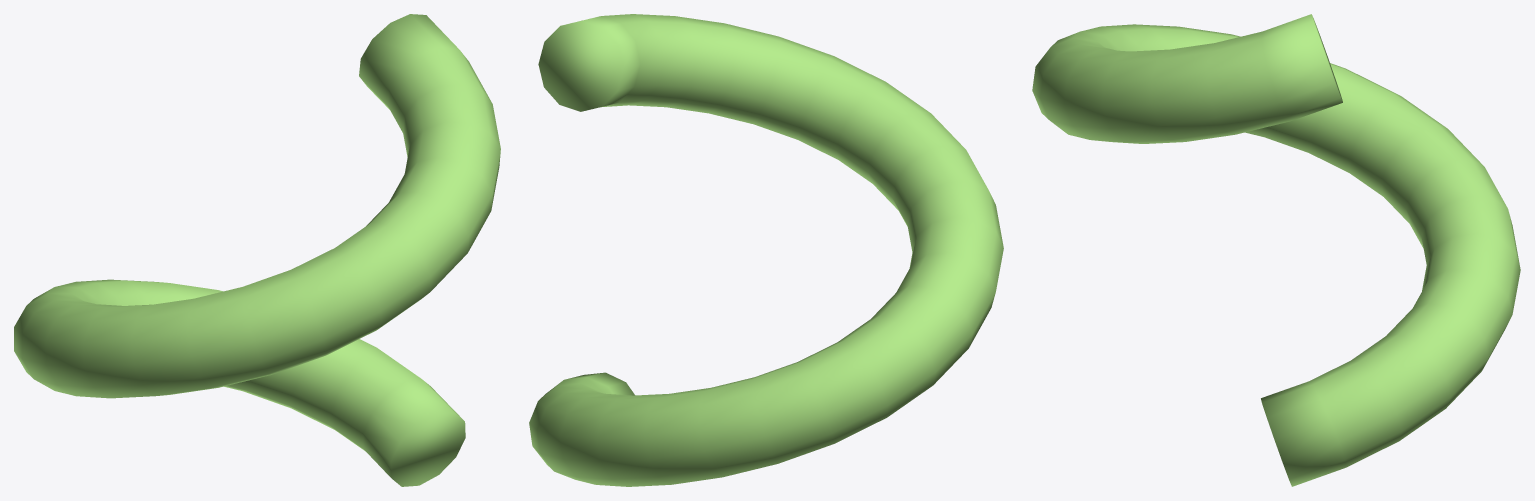
Rendered from p_mesh_trashbot_sprayprojectile_twist01.fbx.
3 renders of one model, left to right at view 1: azimuth 30°, elevation 25°; view 2: azimuth 150°, elevation 25°; view 3: azimuth 270°, elevation 25°, orthographic. The views are drawn at different scales.
Parts seen in each view (by area): view 1: Spiral.001; view 2: Spiral.001; view 3: Spiral.001.
Part boxes in pixels (<box>): Spiral.001: <box>14,14,500,486</box>; Spiral.001: <box>529,14,1003,486</box>; Spiral.001: <box>1032,14,1520,486</box>.
Size of the model in its own units: 11.09 by 11.58 by 11.09.
